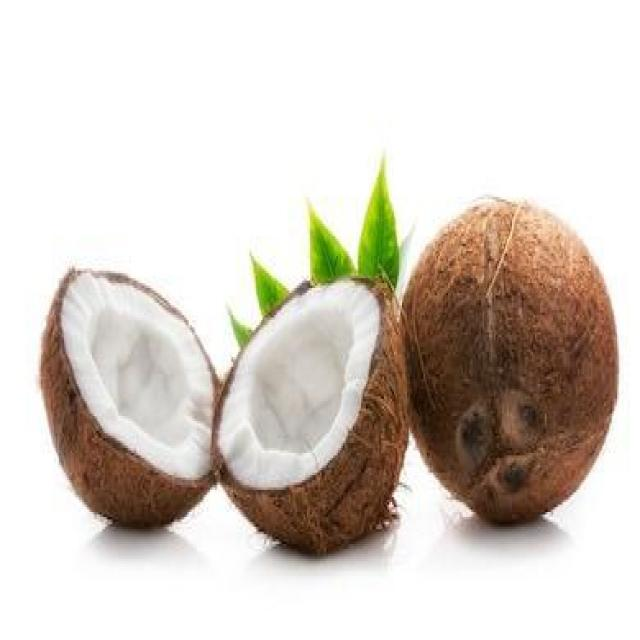coconut: (405, 199, 621, 527), (218, 274, 403, 547), (44, 253, 215, 530)
